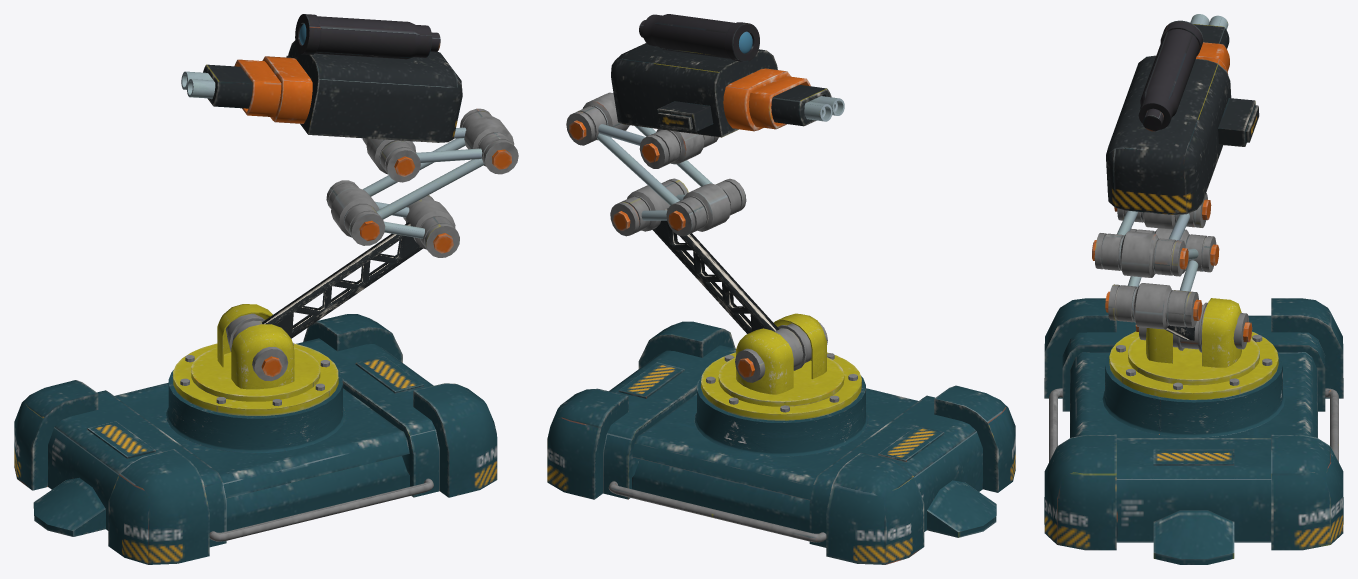
The model's file is turret.fbx.
3 renders of one model, left to right at view 1: azimuth 30°, elevation 25°; view 2: azimuth 150°, elevation 25°; view 3: azimuth 270°, elevation 25°, orthographic. The views are drawn at different scales.
Parts seen in each view (by area): view 1: Cube.007, Cube.008, Cylinder.012, Cylinder.016, Cube.006, Cube.005, Cylinder.022, Cylinder.024, Cylinder.013, Cylinder.017, Cylinder.023, Cylinder.026 (+4 smaller); view 2: Cube.007, Cube.008, Cylinder.016, Cylinder.012, Cube.005, Cube.006, Cylinder.022, Cylinder.013, Cylinder.017, Cylinder.026, Cylinder.024, Cylinder.015 (+2 smaller); view 3: Cube.007, Cube.008, Cylinder.016, Cylinder.012, Cylinder.024, Cylinder.017, Cube.005, Cylinder.013, Cylinder.022, Cylinder.015, Cylinder.026, Cylinder.027 (+1 smaller).
Boxes of the visible parts, box(x1,y1,x2,y2) form: Cube.007: box(14, 314, 497, 564); Cube.008: box(203, 14, 462, 142); Cylinder.012: box(173, 343, 338, 415); Cylinder.016: box(166, 370, 345, 453); Cube.006: box(262, 222, 422, 338); Cube.005: box(217, 304, 294, 389); Cylinder.022: box(326, 180, 385, 245); Cylinder.024: box(460, 108, 518, 174); Cylinder.013: box(209, 478, 433, 541); Cylinder.017: box(403, 195, 459, 257); Cylinder.023: box(362, 138, 484, 219); Cylinder.026: box(362, 138, 420, 182); Cube.007: box(547, 321, 1015, 564); Cube.008: box(611, 14, 831, 137); Cylinder.016: box(694, 375, 868, 456); Cylinder.012: box(701, 352, 861, 420); Cube.005: box(736, 313, 826, 394); Cube.006: box(652, 208, 779, 333); Cylinder.022: box(666, 178, 746, 236); Cylinder.013: box(608, 481, 826, 542); Cylinder.017: box(610, 178, 688, 236); Cylinder.026: box(639, 129, 718, 168); Cylinder.024: box(566, 92, 629, 145); Cylinder.015: box(735, 322, 827, 382); Cube.007: box(1044, 298, 1343, 564); Cube.008: box(1106, 20, 1259, 214); Cylinder.016: box(1102, 352, 1285, 437); Cylinder.012: box(1109, 331, 1278, 399); Cylinder.024: box(1092, 231, 1188, 277); Cylinder.017: box(1105, 283, 1202, 329); Cube.005: box(1146, 298, 1241, 367); Cylinder.013: box(1049, 388, 1338, 461); Cylinder.022: box(1130, 228, 1219, 273); Cylinder.015: box(1135, 302, 1252, 352); Cylinder.026: box(1114, 193, 1211, 229); Cylinder.027: box(1117, 210, 1189, 240).
Size of the model in its own units: 399 by 386 by 228.
